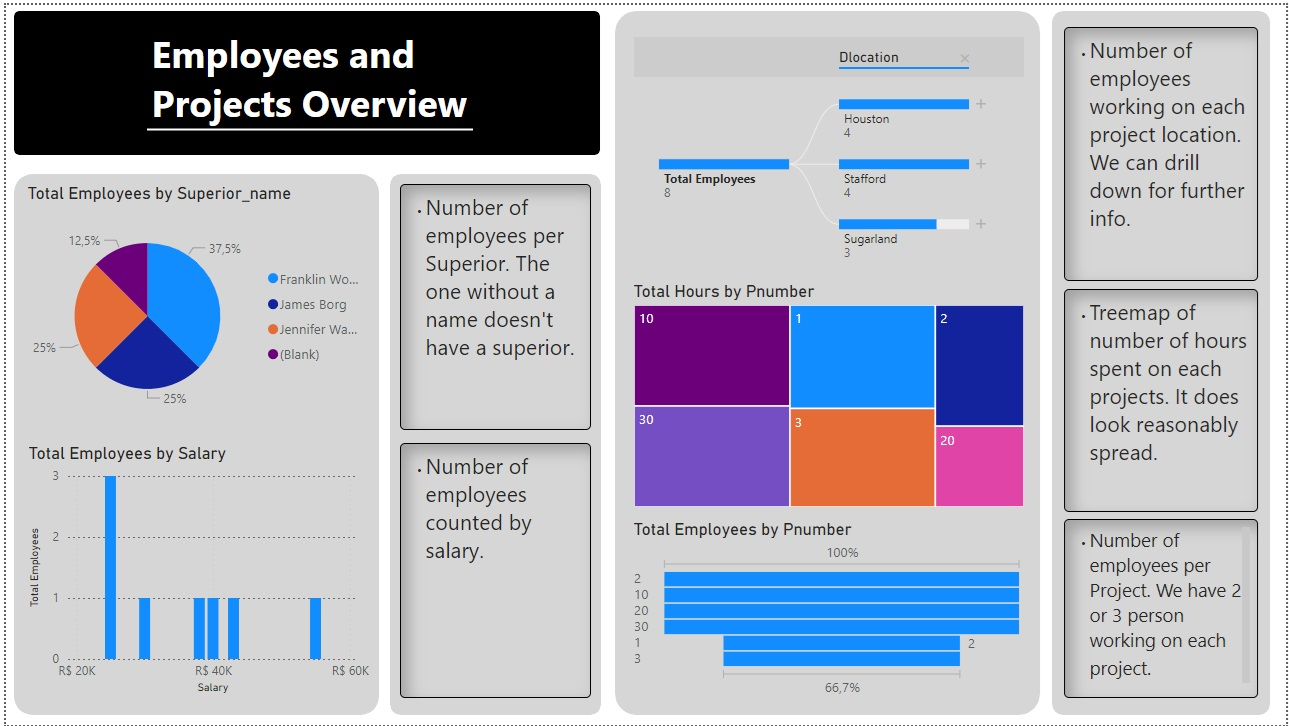

The page's visual inventory and layout, read from the dashboard file:
{"tool":"powerbi","page":{"name":"Page 1","canvas":[1280,720],"ordinal":0},"visuals":[{"type":"shape","box":[608.9,5.9,425.5,704.1],"z":0},{"type":"shape","box":[8.2,169.3,364.4,540.7],"z":1000},{"type":"shape","box":[8.2,5.9,585.3,144.6],"z":1500},{"type":"pieChart","fields":{"Y":["Measure Table.Total Employees"],"Category":["Employee.Superior_name"]},"box":[17.1,178.4,351.7,246.9],"z":2000},{"type":"decompositionTreeVisual","fields":{"Analyze":["Measure Table.Total Employees"],"ExplainBy":["Dept_locations.Dnumber Hierarchy.Dlocation","Dept_locations.Dnumber Hierarchy.Dnumber"]},"box":[623,27,399.6,237.4],"z":3000},{"type":"clusteredColumnChart","fields":{"Y":["Measure Table.Total Employees"],"Category":["Employee.Salary"]},"box":[17.6,438.4,351.4,255.1],"z":4000},{"type":"treemap","fields":{"Values":["Measure Table.Total Hours"],"Group":["Project.Pnumber"]},"box":[623,276.2,399.6,230.4],"z":5000},{"type":"funnel","fields":{"Category":["Project.Pnumber"],"Y":["Measure Table.Total Employees"]},"box":[623,513.6,399.6,181],"z":6000},{"type":"textbox","box":[141.5,17.9,366.3,119.1],"z":7000},{"type":"shape","box":[141.5,111.9,325.1,25.1],"z":8000},{"type":"shape","box":[384.4,169.3,210.4,540.7],"z":9000},{"type":"shape","box":[1046.1,5.9,217.4,704.1],"z":10000},{"type":"textbox","box":[393.8,178.7,191.6,246.8],"z":11000},{"type":"textbox","box":[393.8,438.4,191.6,255.1],"z":12000},{"type":"textbox","box":[1057.9,22.3,193.9,253.9],"z":13000},{"type":"textbox","box":[1057.9,284.4,193.9,222.1],"z":14000},{"type":"textbox","box":[1057.9,513.6,193.9,179.8],"z":15000}]}

Visuals, with their boxes in screenshot pixels (x1, y1, x2, y2), scaled from the page's 1280x720 canvas onto the 1289x726 screenshot:
shape: <region>613, 6, 1042, 716</region>
shape: <region>8, 171, 375, 716</region>
shape: <region>8, 6, 598, 152</region>
pieChart - Measure Table.Total Employees x Employee.Superior_name: <region>17, 180, 371, 429</region>
decompositionTreeVisual - Measure Table.Total Employees x Dept_locations.Dnumber Hierarchy.Dlocation: <region>627, 27, 1030, 267</region>
clusteredColumnChart - Measure Table.Total Employees x Employee.Salary: <region>18, 442, 372, 699</region>
treemap - Measure Table.Total Hours x Project.Pnumber: <region>627, 279, 1030, 511</region>
funnel - Project.Pnumber x Measure Table.Total Employees: <region>627, 518, 1030, 700</region>
textbox: <region>142, 18, 511, 138</region>
shape: <region>142, 113, 470, 138</region>
shape: <region>387, 171, 599, 716</region>
shape: <region>1053, 6, 1272, 716</region>
textbox: <region>397, 180, 590, 429</region>
textbox: <region>397, 442, 590, 699</region>
textbox: <region>1065, 22, 1261, 279</region>
textbox: <region>1065, 287, 1261, 511</region>
textbox: <region>1065, 518, 1261, 699</region>
